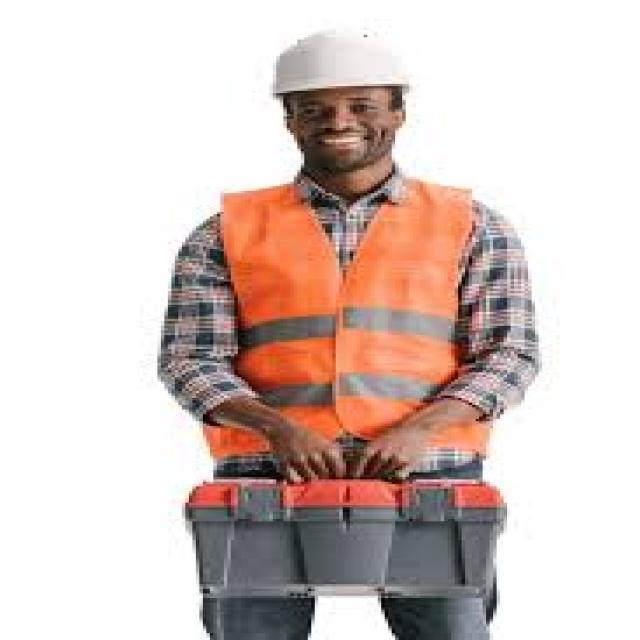helmet: (260, 24, 427, 101)
safety_vest: (198, 166, 507, 468)
